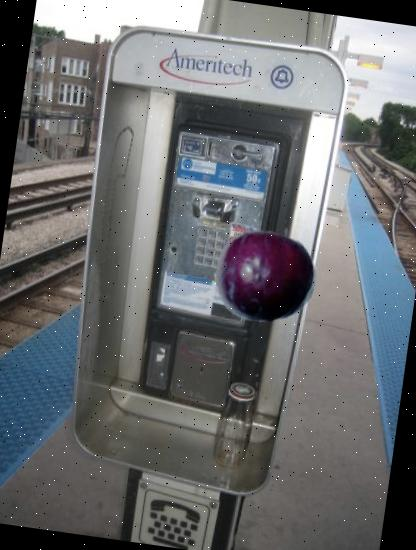Plum: (208, 218, 324, 334)
